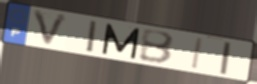B: (138, 29, 176, 66)
I: (189, 36, 206, 71), (218, 40, 233, 76), (85, 19, 100, 55)
M: (100, 22, 142, 61)
V: (31, 9, 71, 50)
